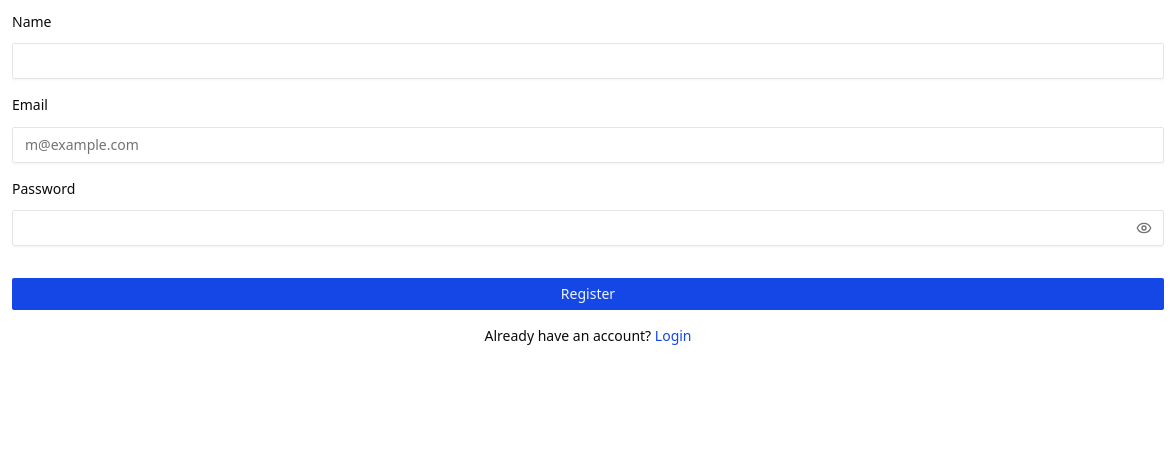
RegisterForm › shows validation errors for empty fields on submit
This screenshot has width=1176, height=458.
Step 1. Click the button "Register" → (588, 294), box x1=12 y1=278 x2=1164 y2=310
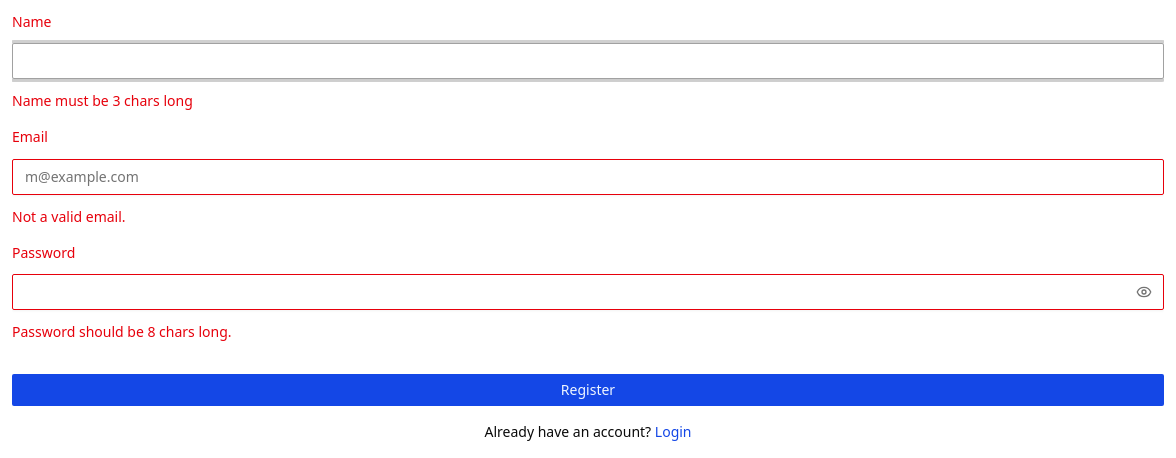
Expected: the text "Name must be 3 chars long" is shown, x1=12 y1=91 x2=193 y2=110
Expected: the text "Not a valid email." is shown, x1=12 y1=206 x2=126 y2=226
Expected: the text "Password should be 8 chars long." is shown, x1=12 y1=322 x2=232 y2=341
